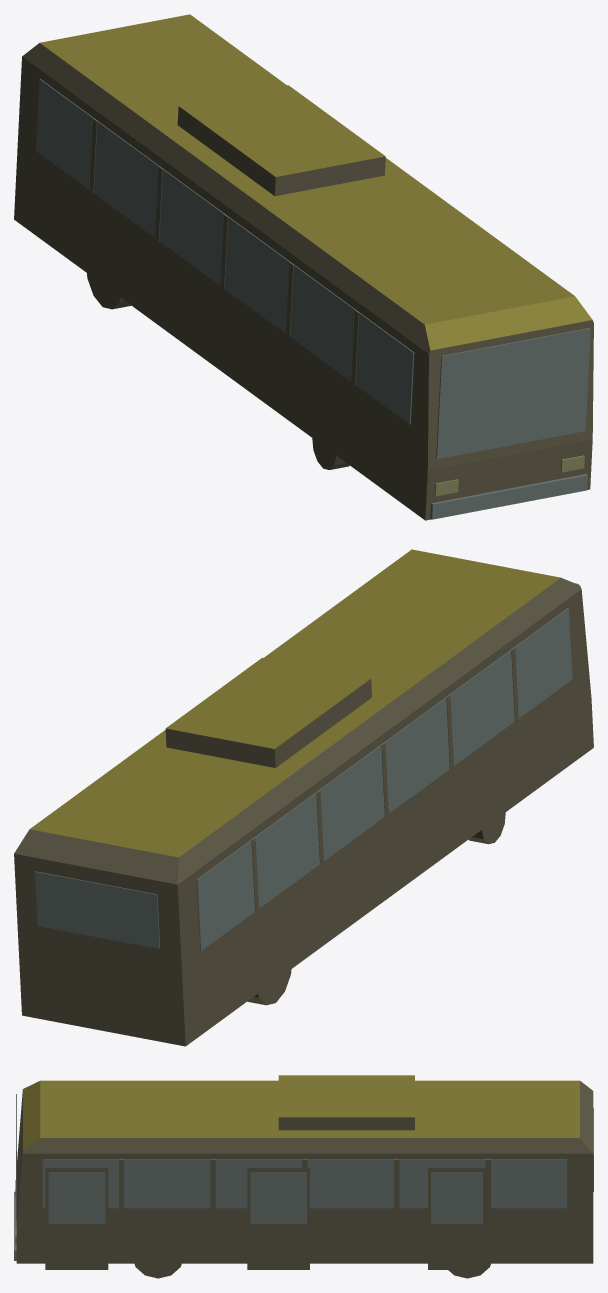
File: SM_Autobus_v2_Pinchado_LOD0.fbx
3 views of the same model, one above another, from view 1: azimuth 30°, elevation 25°; view 2: azimuth 150°, elevation 25°; view 3: azimuth 270°, elevation 25° (orthographic). The views are drawn at different scales.
Visible parts, largest first — view 1: SM_autobus_v2_LOD0; view 2: SM_autobus_v2_LOD0; view 3: SM_autobus_v2_LOD0.
Boxes of the visible parts, left/top/right/bottom form: SM_autobus_v2_LOD0: left=14, top=14, right=593, bottom=520; SM_autobus_v2_LOD0: left=14, top=549, right=593, bottom=1046; SM_autobus_v2_LOD0: left=14, top=1075, right=593, bottom=1278.
Size of the model in its own units: 2.71 by 3.37 by 11.07.
